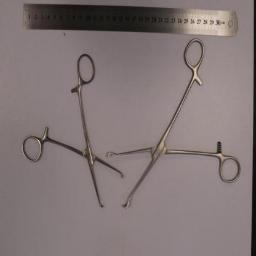Allis Tissue Forceps: (22, 50, 124, 208)
